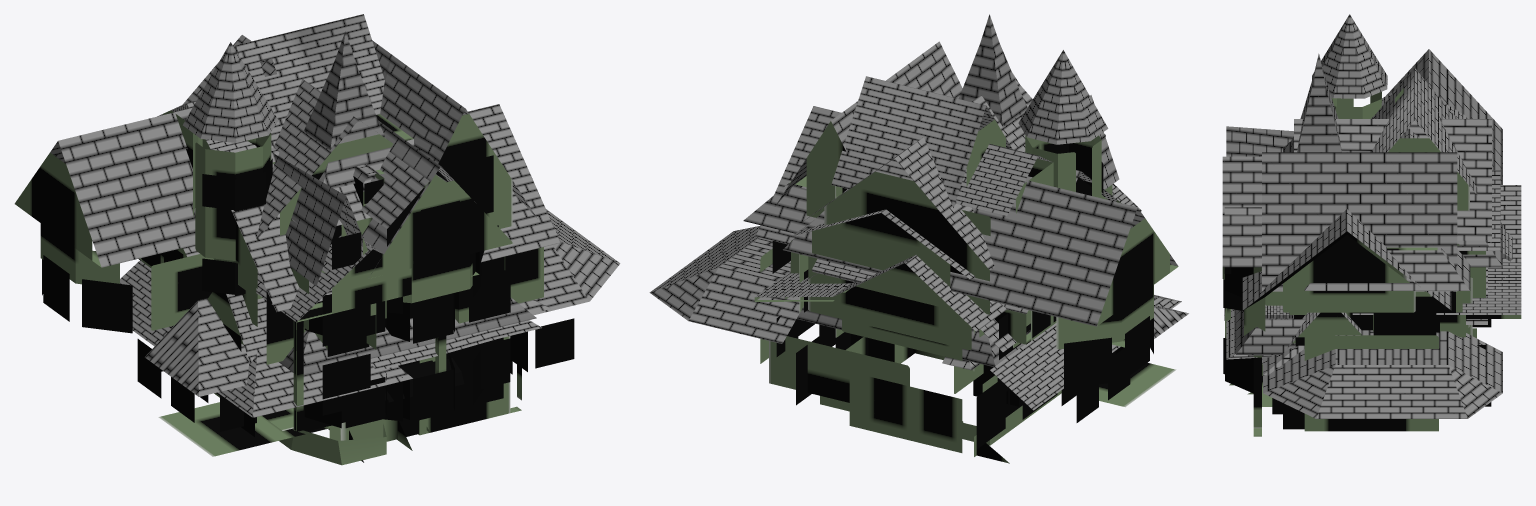
File: houses.fbx
The picture shows the model from 3 angles, left to right: view 1: azimuth 30°, elevation 25°; view 2: azimuth 150°, elevation 25°; view 3: azimuth 270°, elevation 25°; orthographic projection. The views are drawn at different scales.
Parts seen in each view (by area): view 1: B7, B8, B3, B4, B9, A4, A3, B6, B1, A7, A2; view 2: B7, B8, A4, A3, B3, A6, B5, A5, A8, B4, B6, A7 (+2 smaller); view 3: B7, B3, B4, B5, B8, A4, A3, B9, B6, A5, A7, A8 (+2 smaller).
Part boxes in pixels (left/top/right/bottom): B7: left=14, top=42, right=620, bottom=456; B8: left=120, top=35, right=479, bottom=431; B3: left=216, top=31, right=537, bottom=462; B4: left=213, top=104, right=560, bottom=426; B9: left=274, top=154, right=541, bottom=415; A4: left=234, top=14, right=384, bottom=145; A3: left=157, top=100, right=446, bottom=431; B6: left=271, top=114, right=536, bottom=374; B1: left=214, top=169, right=430, bottom=465; A7: left=200, top=292, right=512, bottom=436; A2: left=340, top=303, right=435, bottom=441; B7: left=649, top=50, right=1188, bottom=407; B8: left=803, top=79, right=1181, bottom=422; A4: left=811, top=76, right=1012, bottom=283; A3: left=754, top=144, right=1141, bottom=331; B3: left=772, top=14, right=1057, bottom=419; A6: left=835, top=319, right=1022, bottom=452; B5: left=743, top=176, right=1009, bottom=463; A5: left=792, top=209, right=1005, bottom=449; A8: left=776, top=238, right=1056, bottom=356; B4: left=755, top=106, right=1121, bottom=244; B6: left=797, top=306, right=1030, bottom=391; A7: left=819, top=324, right=1115, bottom=406; B7: left=1222, top=14, right=1502, bottom=418; B3: left=1229, top=53, right=1457, bottom=436; B4: left=1242, top=209, right=1451, bottom=335; B5: left=1263, top=247, right=1476, bottom=431; B8: left=1223, top=119, right=1491, bottom=374; A4: left=1371, top=67, right=1512, bottom=261; A3: left=1225, top=91, right=1521, bottom=338; B9: left=1226, top=126, right=1459, bottom=359; B6: left=1236, top=310, right=1305, bottom=354; A5: left=1457, top=170, right=1500, bottom=406; A7: left=1272, top=312, right=1361, bottom=414; A8: left=1432, top=267, right=1487, bottom=349.
Size of the model in its own units: 2.1 by 1.55 by 1.31.
